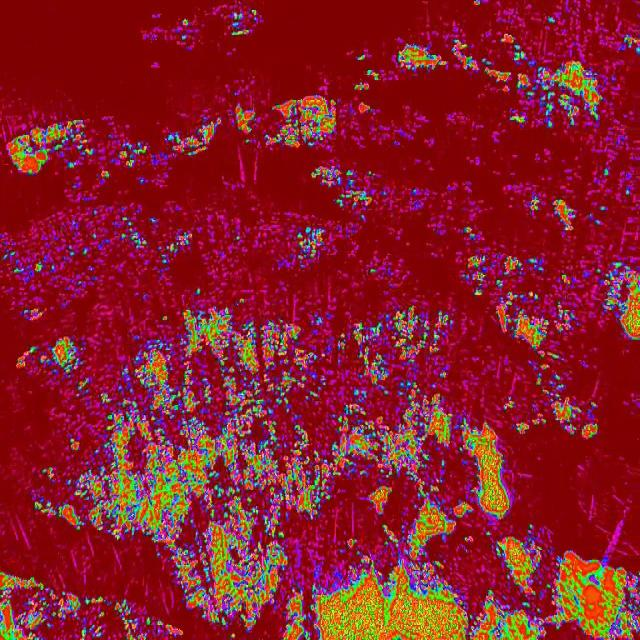fire: (39, 301, 468, 637), (0, 212, 188, 316), (468, 248, 640, 352), (466, 430, 550, 640), (454, 28, 608, 132), (549, 540, 640, 640), (3, 106, 97, 190), (228, 87, 344, 154), (537, 371, 601, 441), (312, 164, 378, 213), (0, 570, 38, 640), (390, 40, 453, 80), (170, 112, 218, 164), (284, 226, 329, 266), (550, 195, 582, 235), (120, 140, 148, 170)
